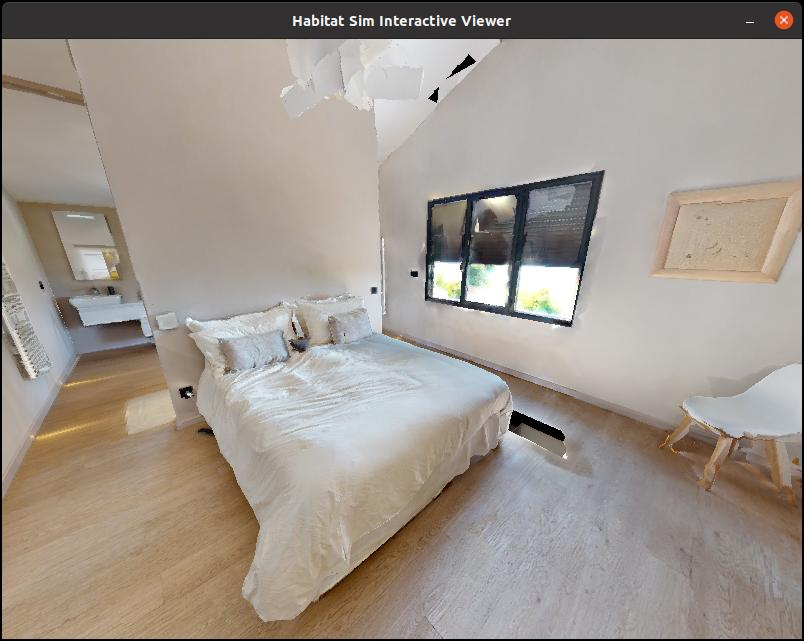bed: (162, 292, 525, 616)
chair: (661, 329, 804, 510)
